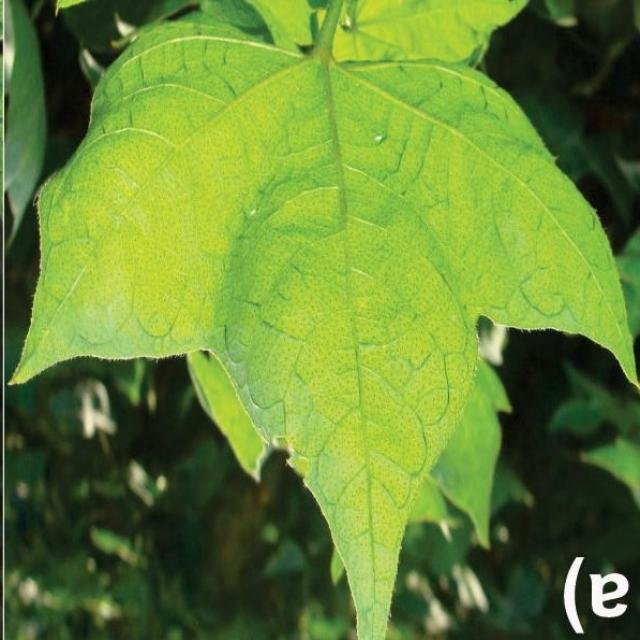Leaf Curl Virus: (139, 53, 512, 387)
